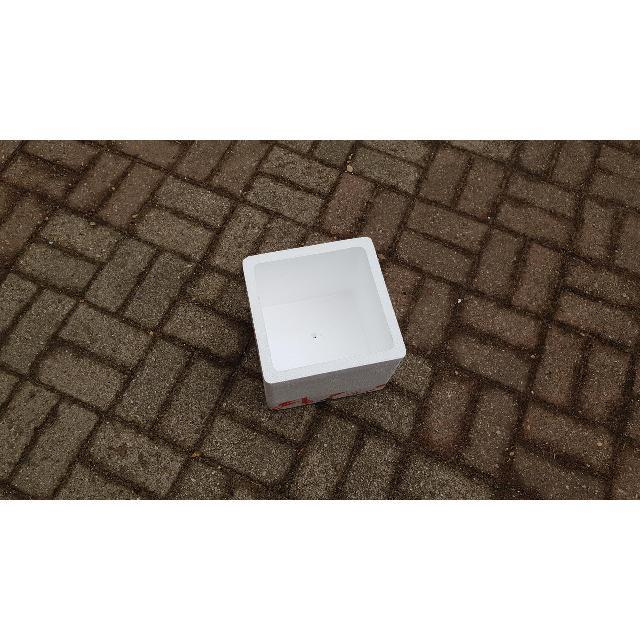Plastico descartable: (241, 237, 406, 408)
